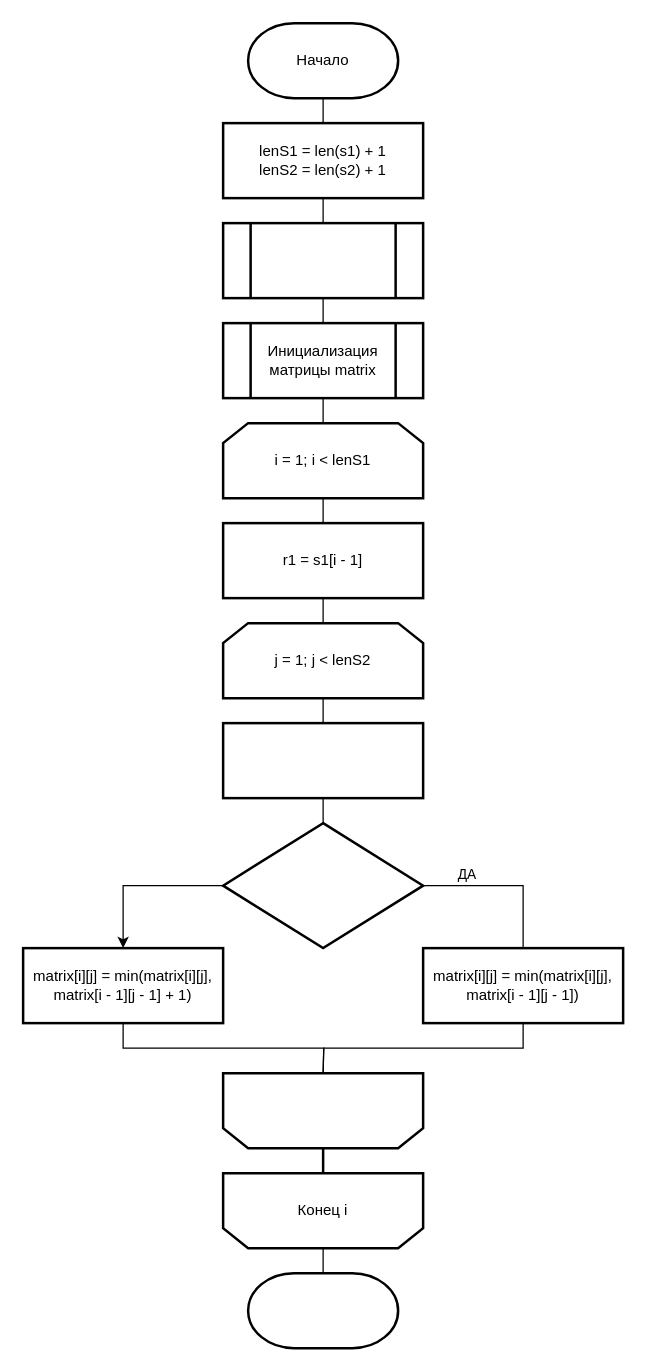
This 645x1370 diagram has some shape labels left out. Each missing label, with the centre of its shape:
"r1 == r2" belongs at (x=322, y=885).
"r2 = s2[j - 1]" belongs at (x=322, y=760).
"Конец" belongs at (x=322, y=1310).
"Конец j" belongs at (x=322, y=1110).
"Создание матрицы matrix" belongs at (x=322, y=260).
